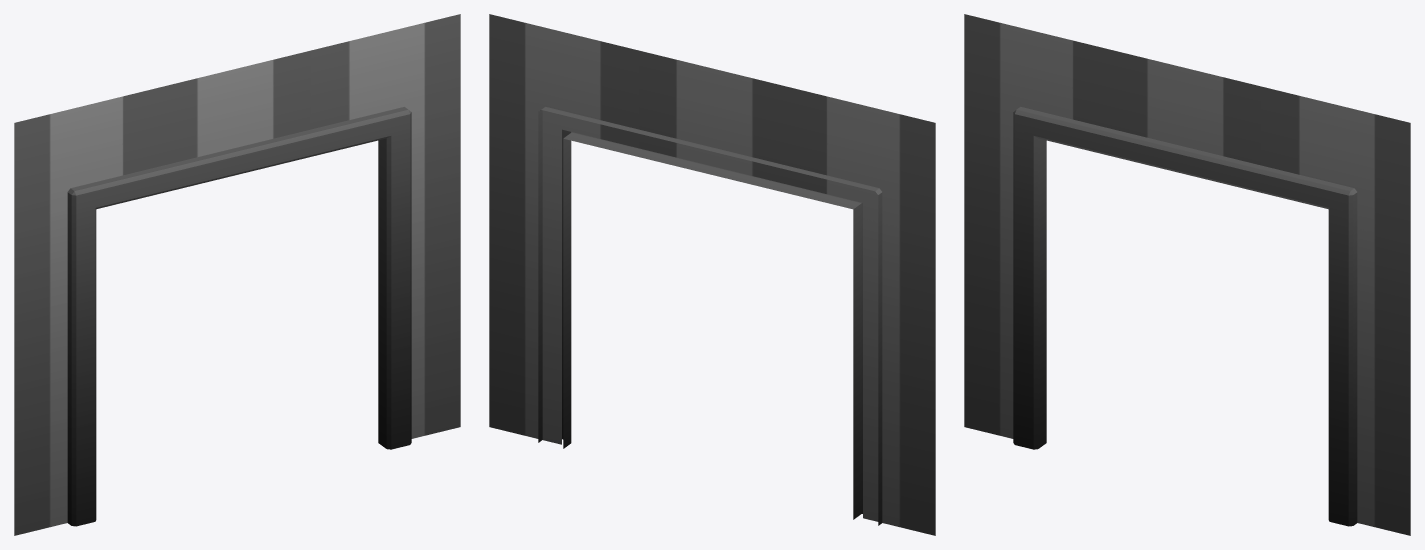
File: Wall_01_Door_Double.fbx
3 renders of one model, left to right at view 1: azimuth 30°, elevation 25°; view 2: azimuth 150°, elevation 25°; view 3: azimuth 330°, elevation 25°, orthographic.
Visible parts, largest first — view 1: Wall_01_Door; view 2: Wall_01_Door; view 3: Wall_01_Door.
Part boxes in pixels (x1,y1,x2,y2): Wall_01_Door: (14,14,460,535); Wall_01_Door: (489,14,935,535); Wall_01_Door: (964,14,1410,535).
Bounding box in the file's own units: 3 × 2.65 × 0.1165.
